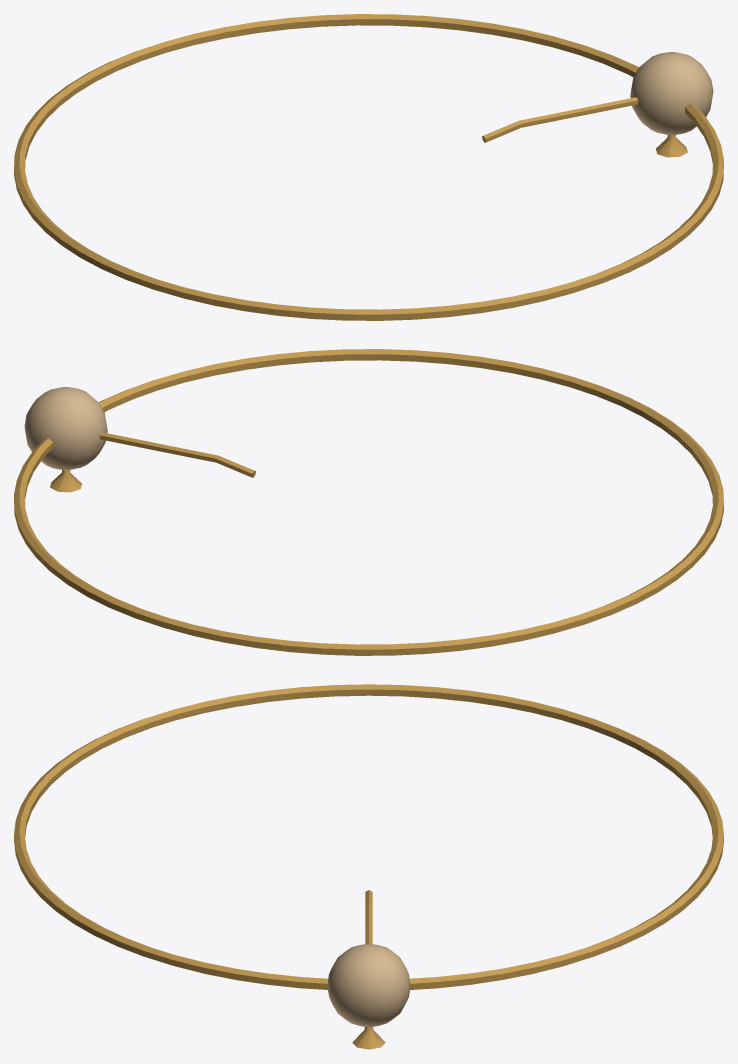
File: orrery_arm_1.glb
The picture shows the model from 3 angles, top to bottom: view 1: azimuth 30°, elevation 25°; view 2: azimuth 150°, elevation 25°; view 3: azimuth 270°, elevation 25°; orthographic projection.
Visible parts, largest first — view 1: orrery_arm_1; view 2: orrery_arm_1; view 3: orrery_arm_1.
Part boxes in pixels (x1,y1,x2,y2): orrery_arm_1: (14,14,723,320); orrery_arm_1: (14,349,723,655); orrery_arm_1: (14,684,723,1049).
Bounding box in the file's own units: 2.14 × 0.3 × 2.03.
